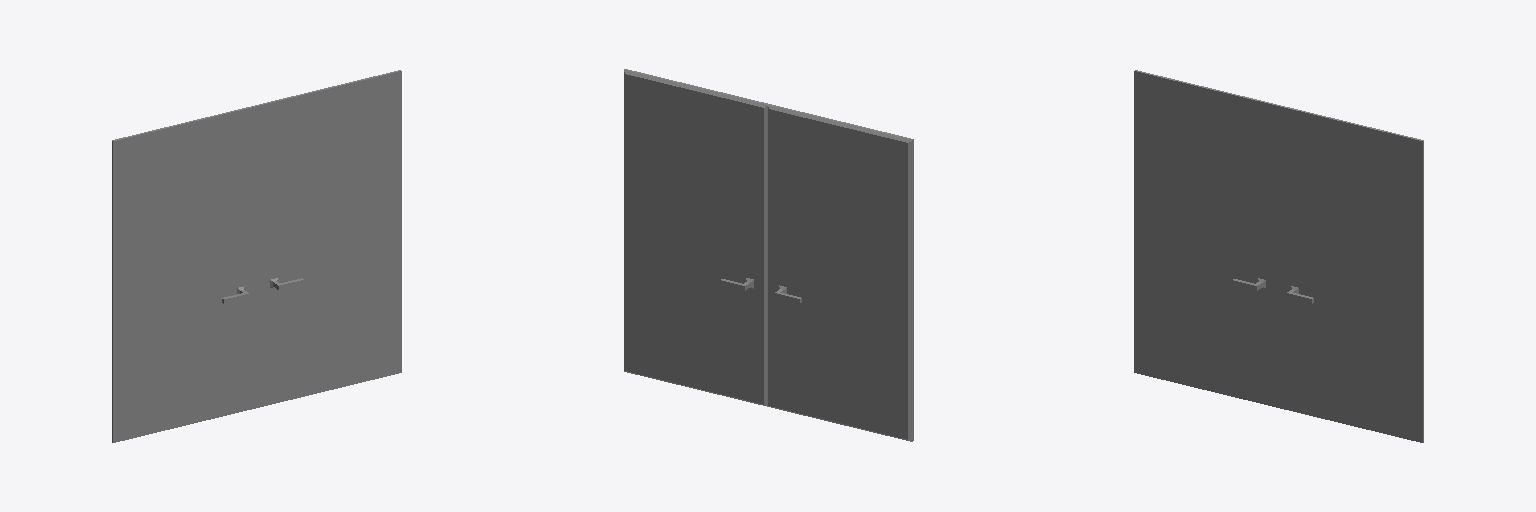
Rendered from Door_26.obj.
3 views of the same model, side by side, from view 1: azimuth 30°, elevation 25°; view 2: azimuth 150°, elevation 25°; view 3: azimuth 330°, elevation 25° (orthographic).
Parts seen in each view (by area): view 1: Box219, Box218; view 2: Box219, Box218; view 3: Box218, Box219.
Boxes of the visible parts, box(x1,y1,x2,y2) form: Box219: box(112, 105, 257, 442); Box218: box(257, 70, 401, 407); Box219: box(768, 104, 913, 441); Box218: box(624, 69, 768, 406); Box218: box(1278, 105, 1423, 442); Box219: box(1134, 70, 1278, 407).
Bounding box in the file's own units: 118 × 118 × 11.32.